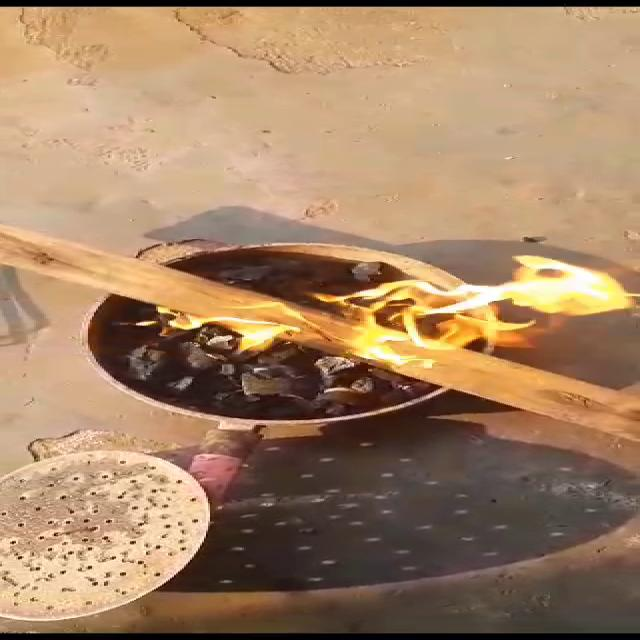Fire: (158, 235, 639, 384)
